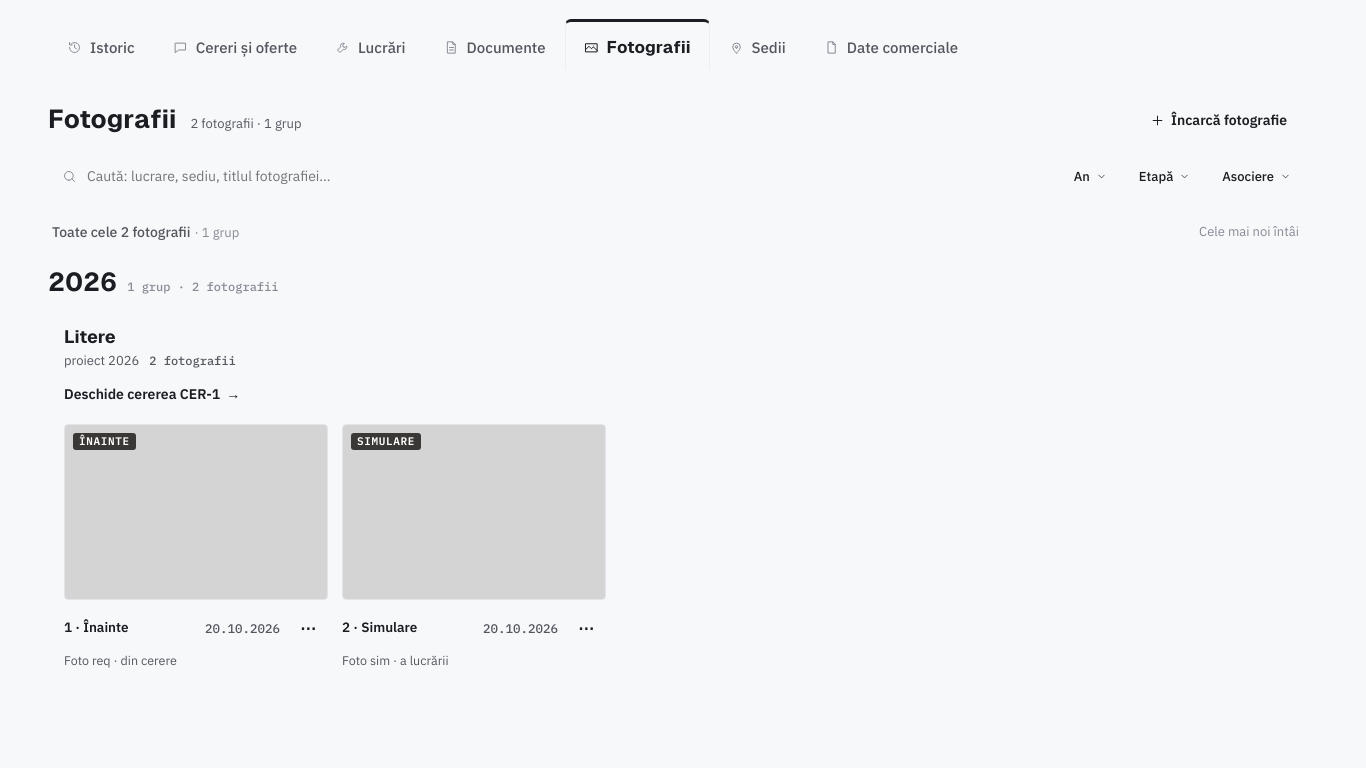
Test case: Fotografia reprezentativă a lucrării (N-021) › keeps the work chosen after an error and offers to retry; says when the photo is no longer eligible
The width and height of the screenshot is (1366, 768).
(page scrolled)
Click the button named "Acțiuni pentru Foto sim".
click(586, 628)  # box left=566, top=608, right=606, bottom=648
(page scrolled)
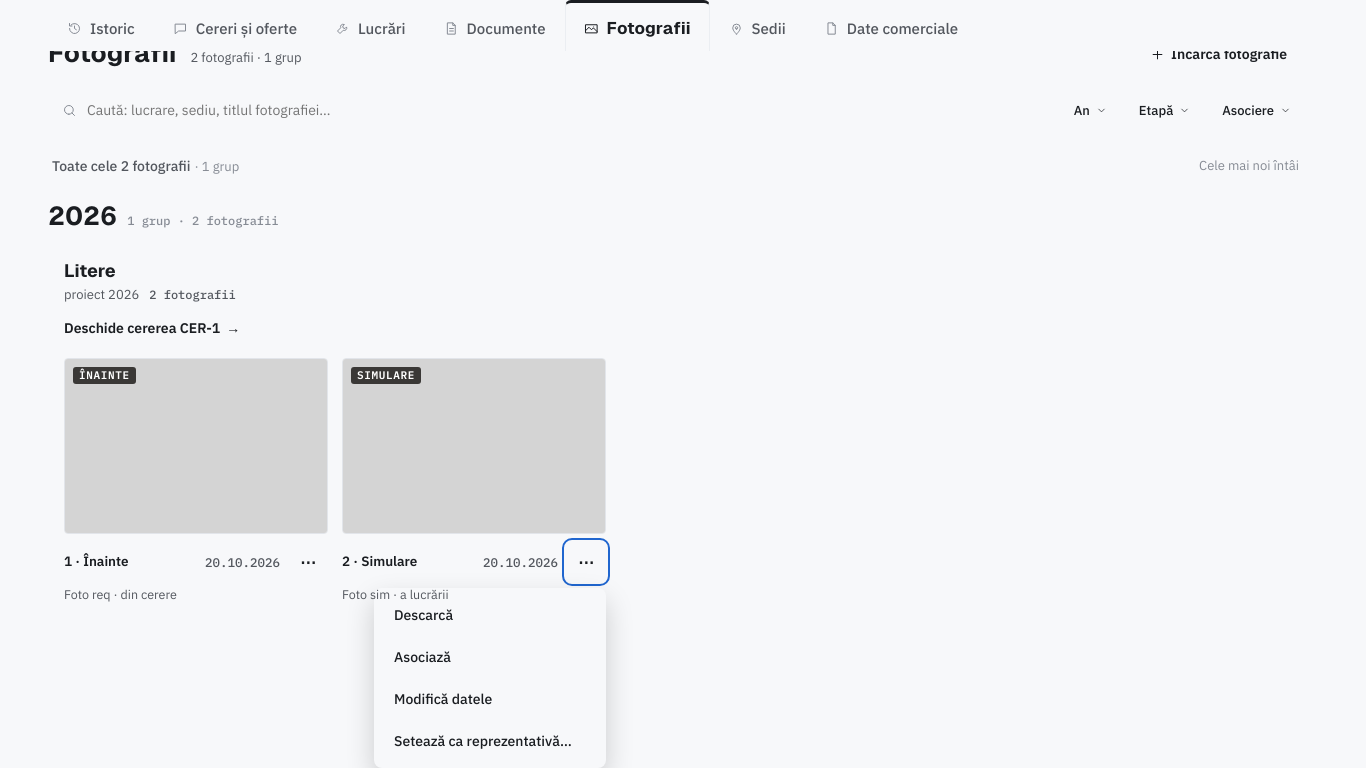
Click the button "Setează ca reprezentativă…".
click(490, 741)  # box left=380, top=720, right=600, bottom=762
(page scrolled)
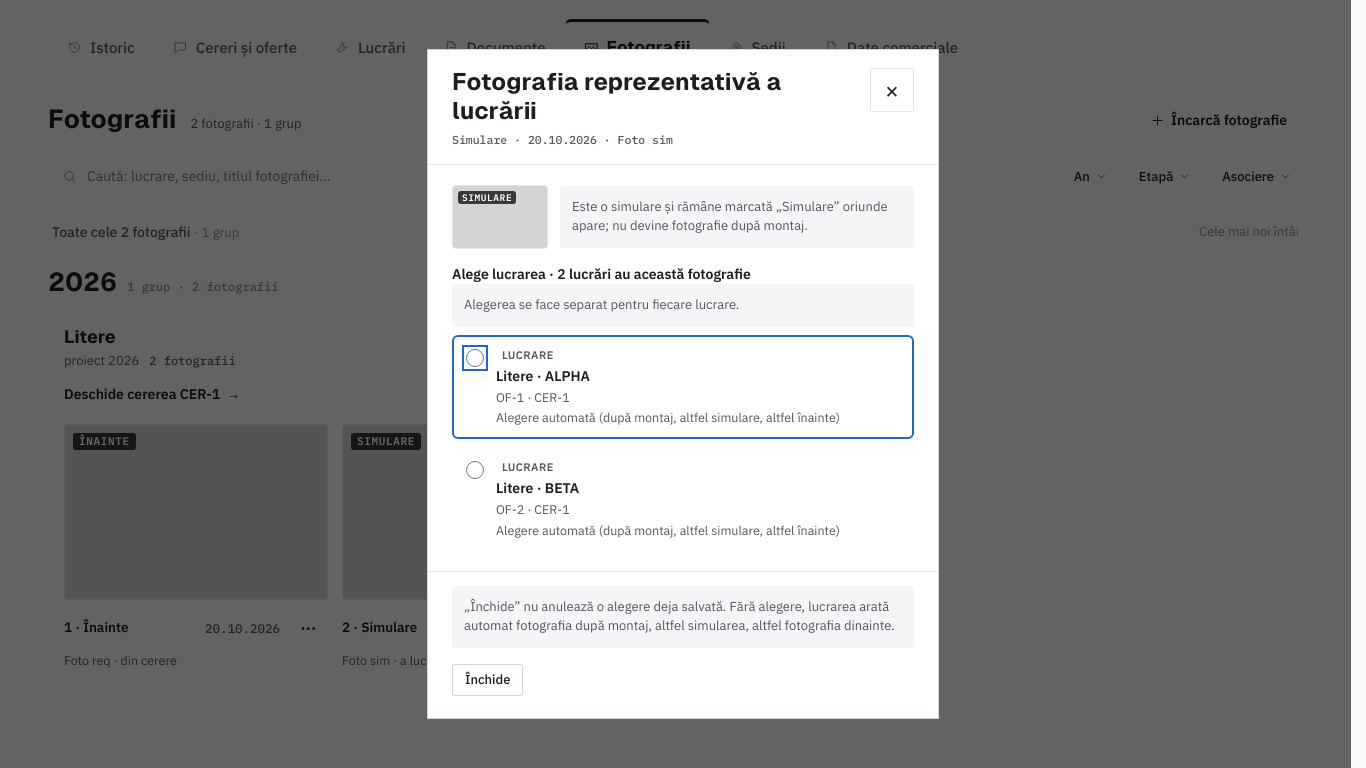
Click the radio button labelled "Litere · BETA".
click(475, 470)  # box left=466, top=461, right=484, bottom=479
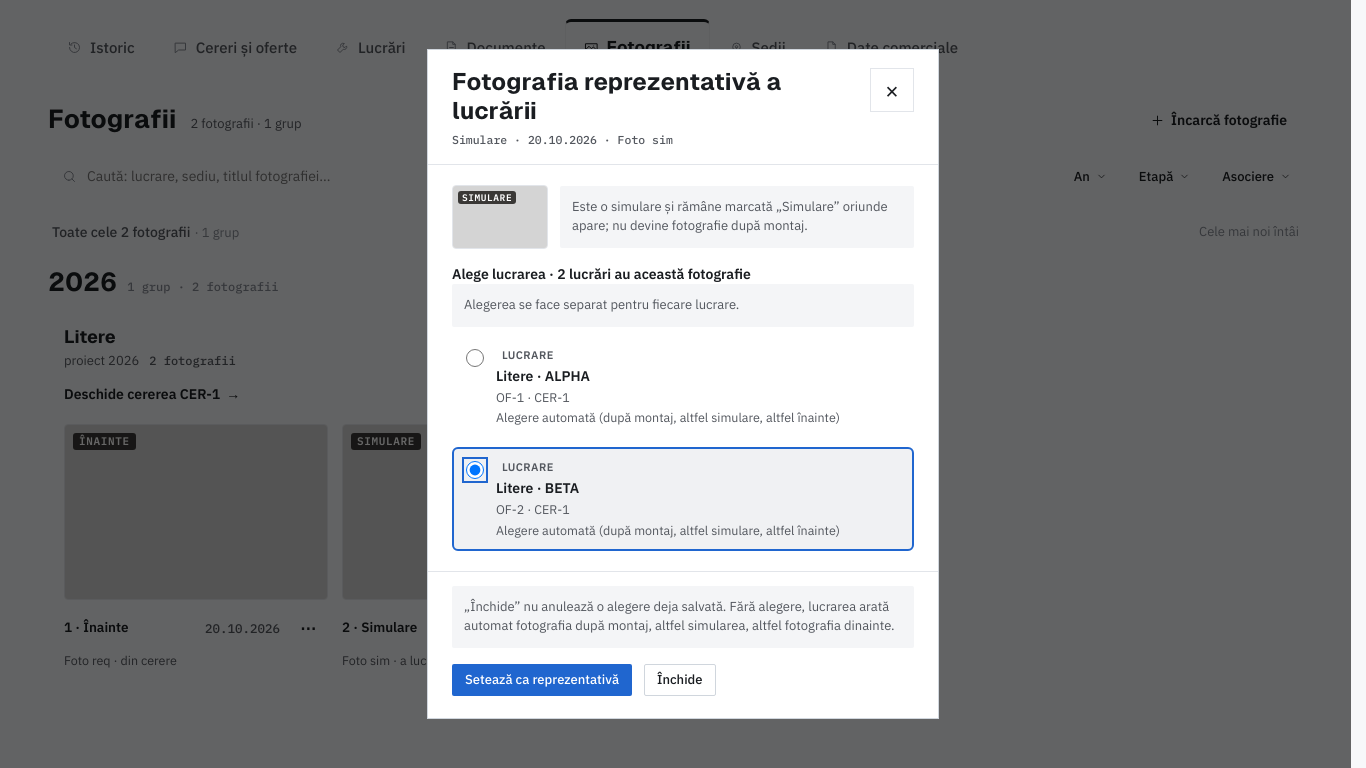
Click the button "Setează ca reprezentativă".
click(542, 680)  # box left=452, top=658, right=632, bottom=702
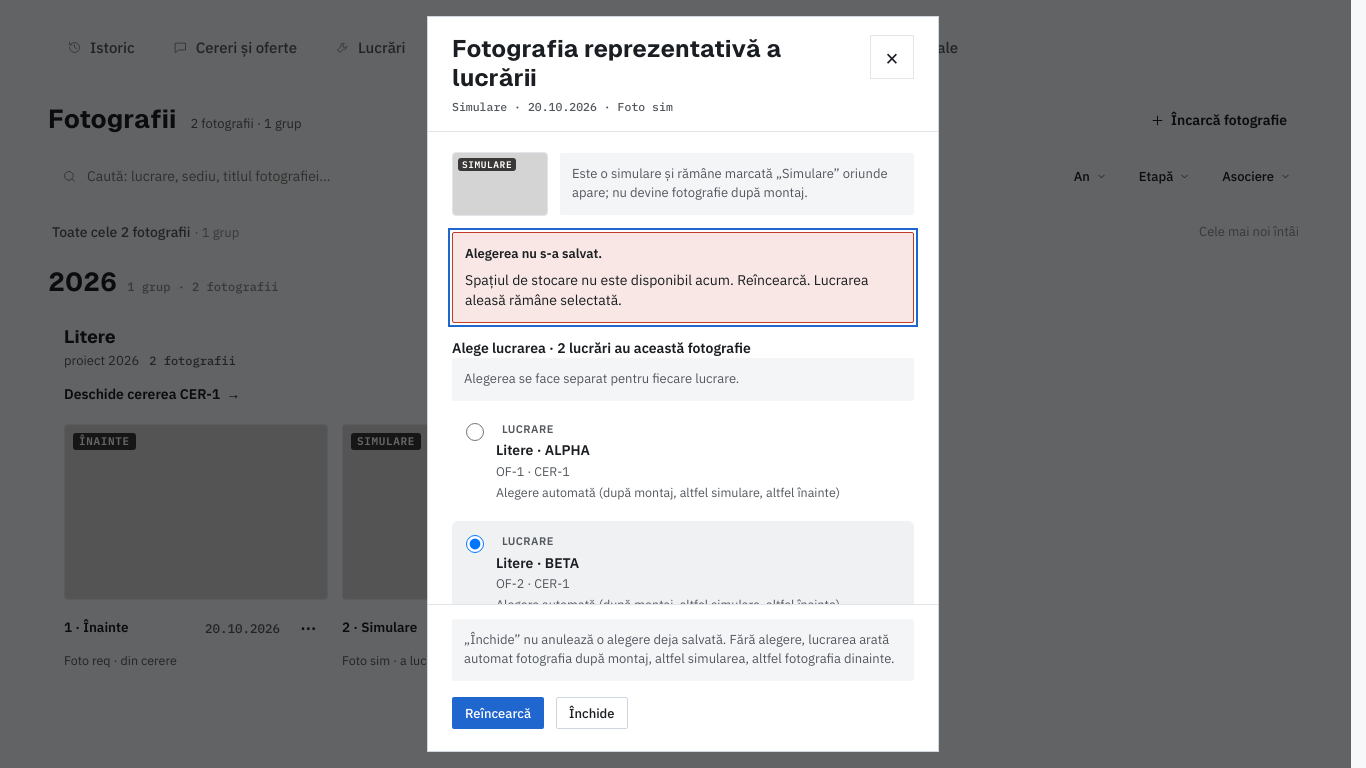
Result: the radio button labelled "Litere · BETA" is checked at left=466, top=535, right=484, bottom=553
Result: the text "Alegerea nu s-a salvat." is shown at left=465, top=245, right=602, bottom=262
Click the button "Reîncearcă".
click(498, 713)  # box left=452, top=691, right=544, bottom=735
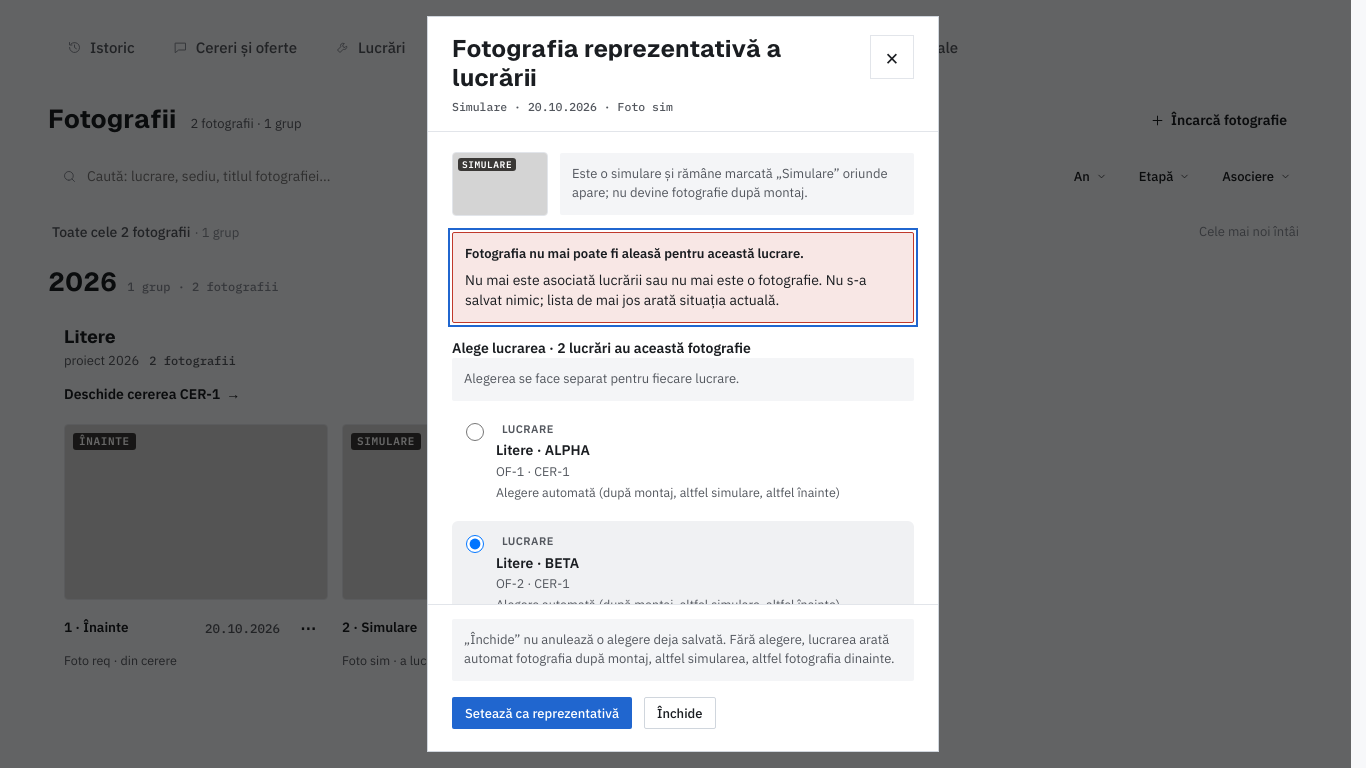
Result: the text "Fotografia nu mai poate fi aleasă pentru această lucrare." is shown at left=465, top=245, right=804, bottom=262
